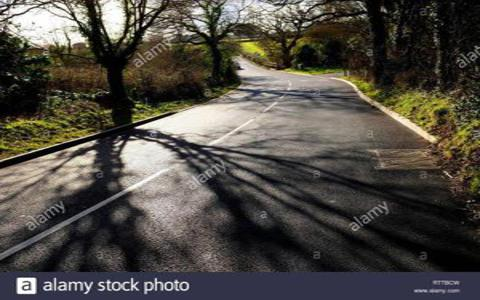Proper road: (195, 98, 359, 219), (25, 156, 187, 265)
